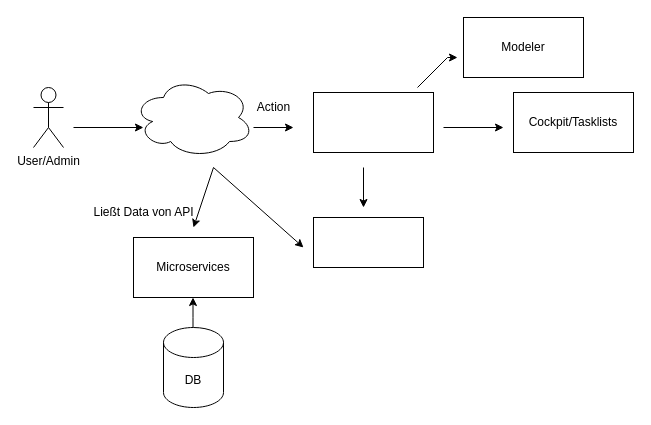
Image size: 651x425. Some labels were removed from this diagram. The centre of each missing label's shape, as x and y in pixels:
Browser: pixel 193 117
Camunda: pixel 373 122
Topic Listener: pixel 368 242
